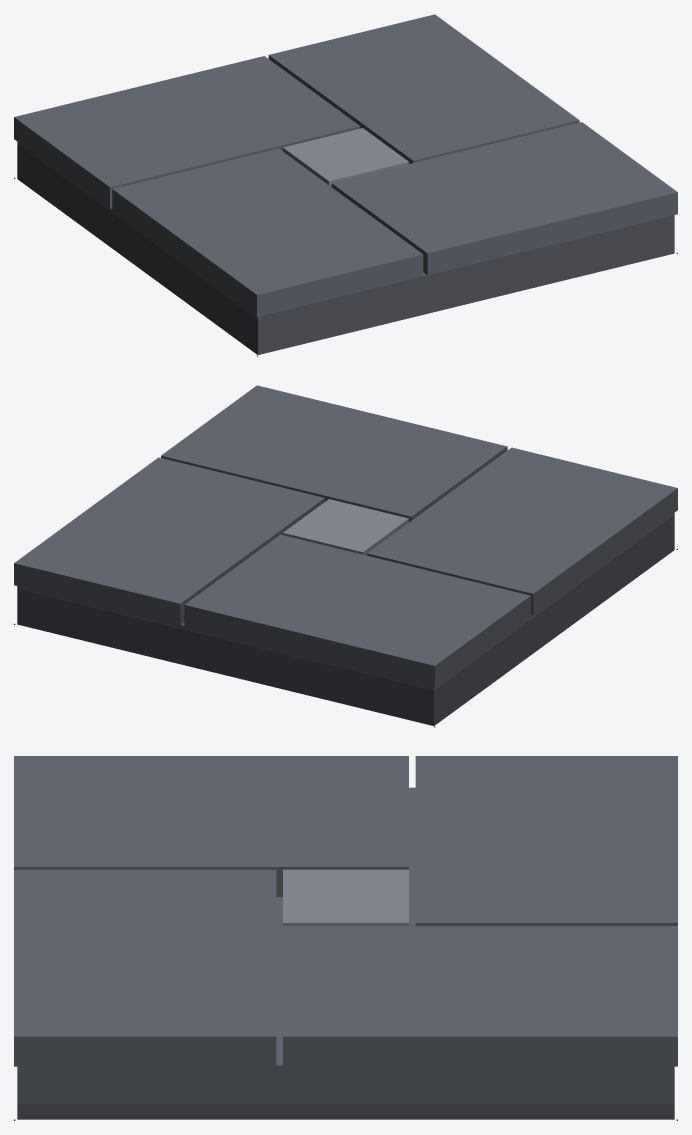
Rendered from floor_metal_cross.glb.
3 renders of one model, top to bottom at view 1: azimuth 30°, elevation 25°; view 2: azimuth 150°, elevation 25°; view 3: azimuth 270°, elevation 25°, orthographic. The views are drawn at different scales.
Bounding box in the file's own units: 1 × 0.14 × 1.
1 material, 1 textured.
